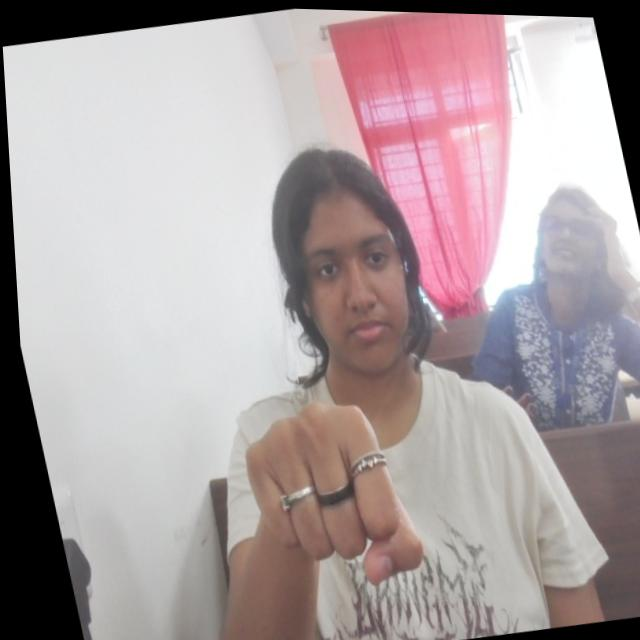yes: (224, 381, 431, 600)
